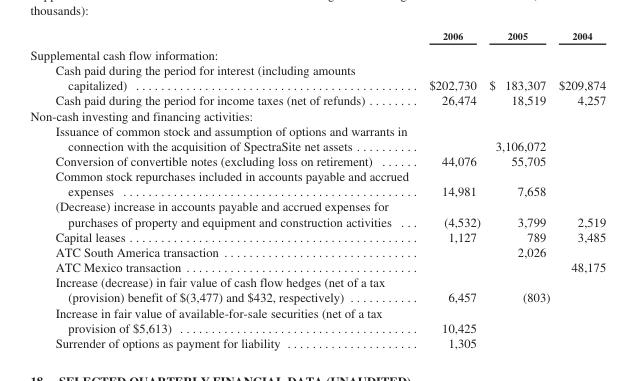table: (29, 29, 605, 349)
table column: (29, 29, 418, 349), (484, 29, 553, 349), (418, 29, 484, 349), (553, 29, 605, 349)
table column header: (29, 29, 605, 44)
table projected row header: (29, 44, 605, 62), (29, 107, 605, 122)
table row: (29, 122, 605, 153), (29, 62, 605, 92), (29, 168, 605, 198), (29, 198, 605, 228), (29, 274, 605, 304), (29, 304, 605, 334), (29, 44, 605, 62), (29, 228, 605, 244), (29, 29, 605, 44), (29, 92, 605, 107), (29, 107, 605, 122), (29, 153, 605, 168), (29, 244, 605, 259), (29, 259, 605, 274), (29, 334, 605, 349)
